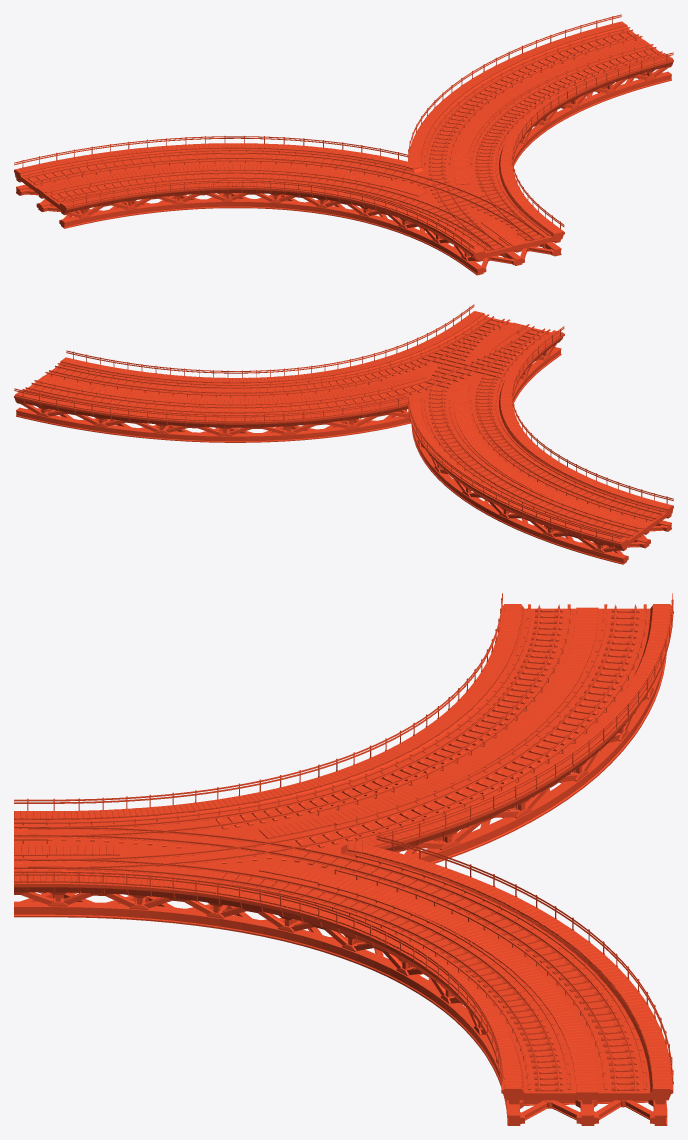
The model's file is SM_Rails_Overground_Switch_City.fbx.
The picture shows the model from 3 angles, top to bottom: view 1: azimuth 30°, elevation 25°; view 2: azimuth 150°, elevation 25°; view 3: azimuth 270°, elevation 25°; orthographic projection. The views are drawn at different scales.
Visible parts, largest first — view 1: SM_Rails_Overground_Switch_City; view 2: SM_Rails_Overground_Switch_City; view 3: SM_Rails_Overground_Switch_City.
Part boxes in pixels (<box>): SM_Rails_Overground_Switch_City: <box>14,14,673,275</box>; SM_Rails_Overground_Switch_City: <box>14,304,673,564</box>; SM_Rails_Overground_Switch_City: <box>14,593,673,1125</box>.
Size of the model in its own units: 90 by 4.2 by 51.8.
